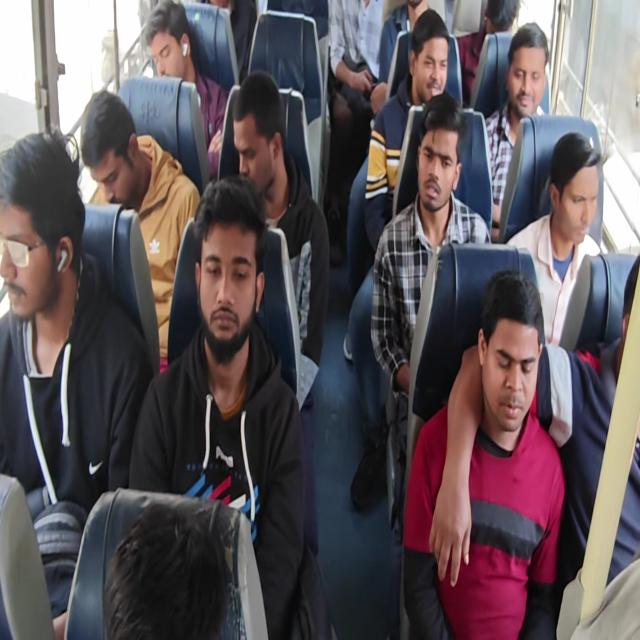person: (1, 1, 638, 638), (127, 174, 337, 638), (0, 125, 153, 637), (446, 256, 639, 604), (402, 268, 566, 638), (369, 92, 492, 512), (231, 70, 330, 556), (80, 89, 201, 373), (364, 9, 454, 252), (505, 131, 603, 351), (102, 500, 229, 639), (142, 0, 229, 178), (484, 21, 549, 232), (326, 0, 385, 223), (457, 0, 521, 107), (378, 0, 429, 84), (207, 0, 256, 76)
